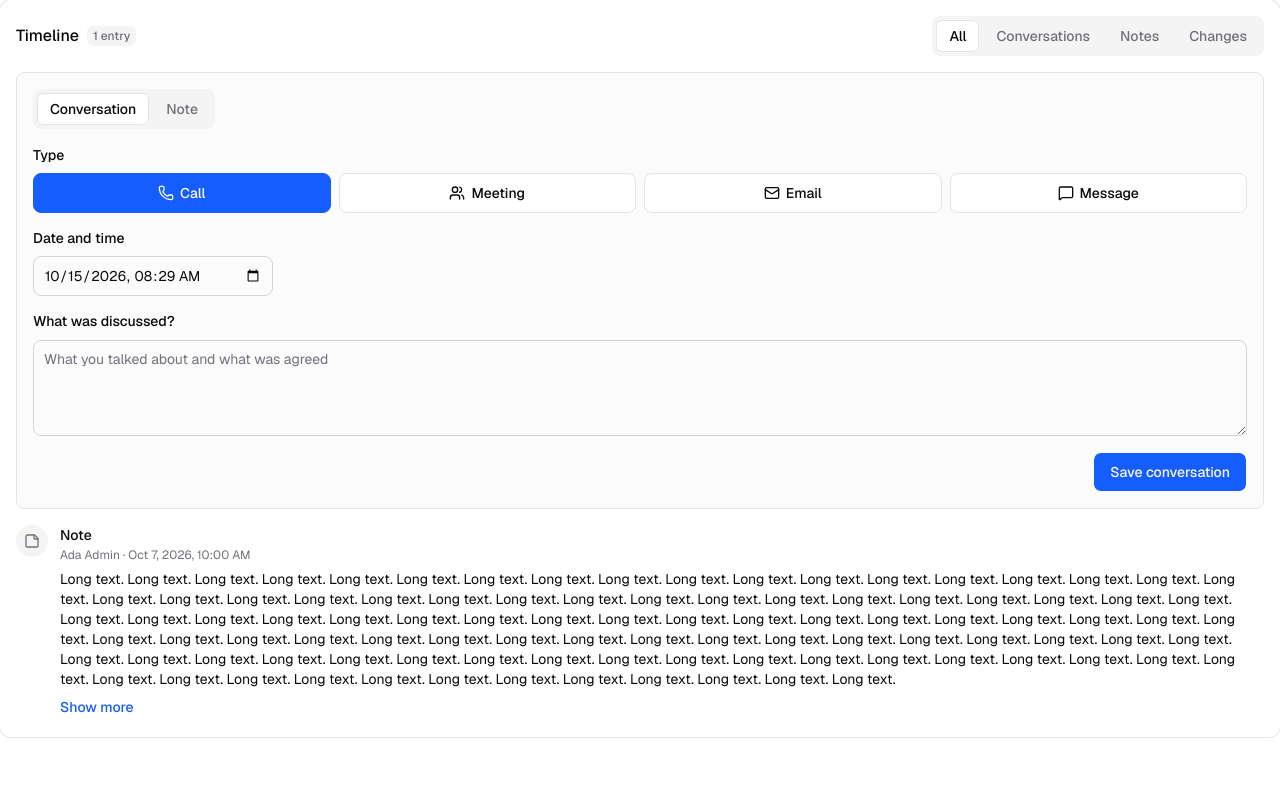
Scenario: Timeline › cuts a very long text short until Show more is pressed
Click the button "Show more" at (97, 706), box top-left (60, 688), bottom-right (134, 724)
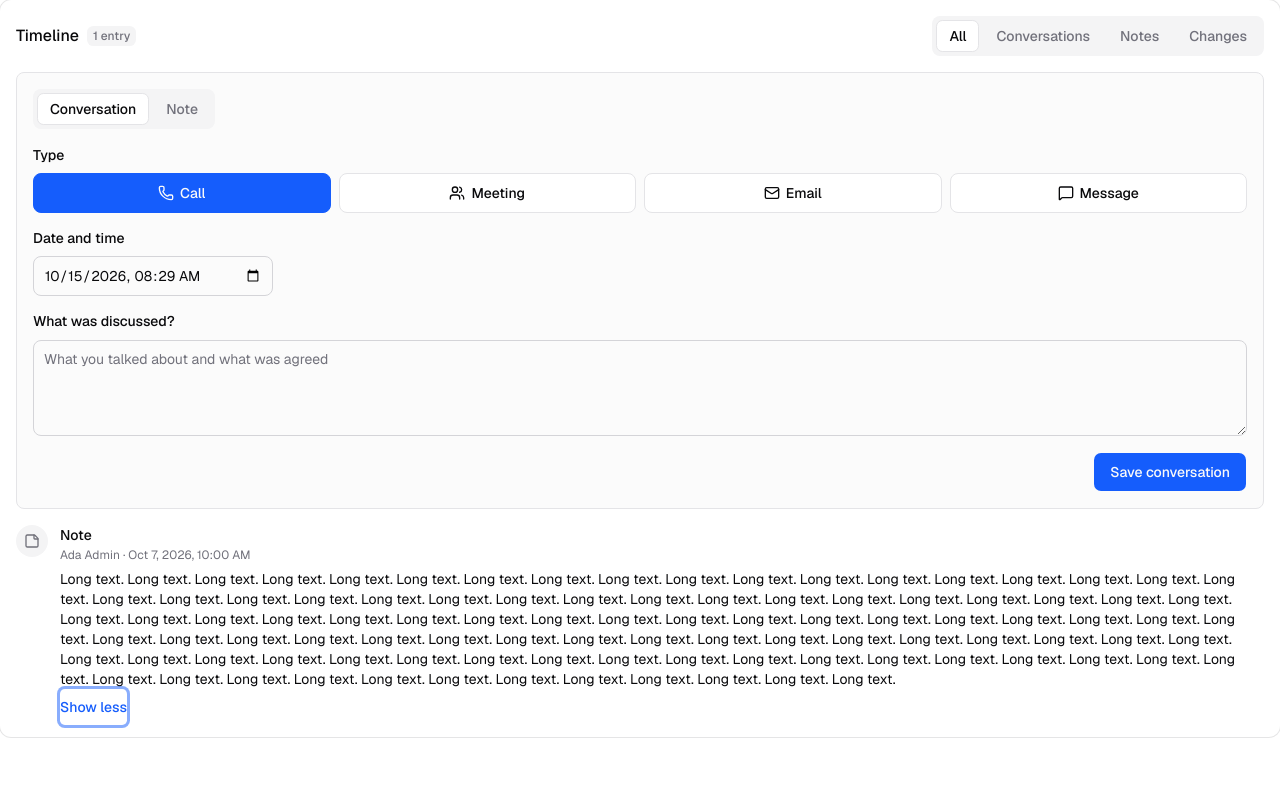
Expected: the button "Show less" is expanded, top-left (60, 688), bottom-right (127, 724)
